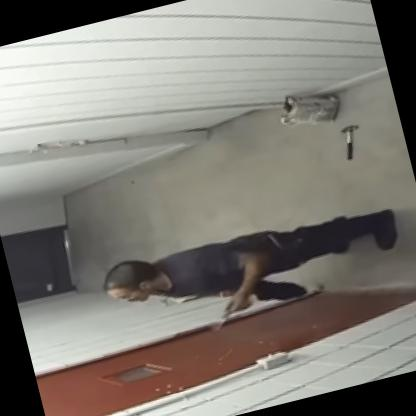Human Body: (94, 182, 414, 354)
